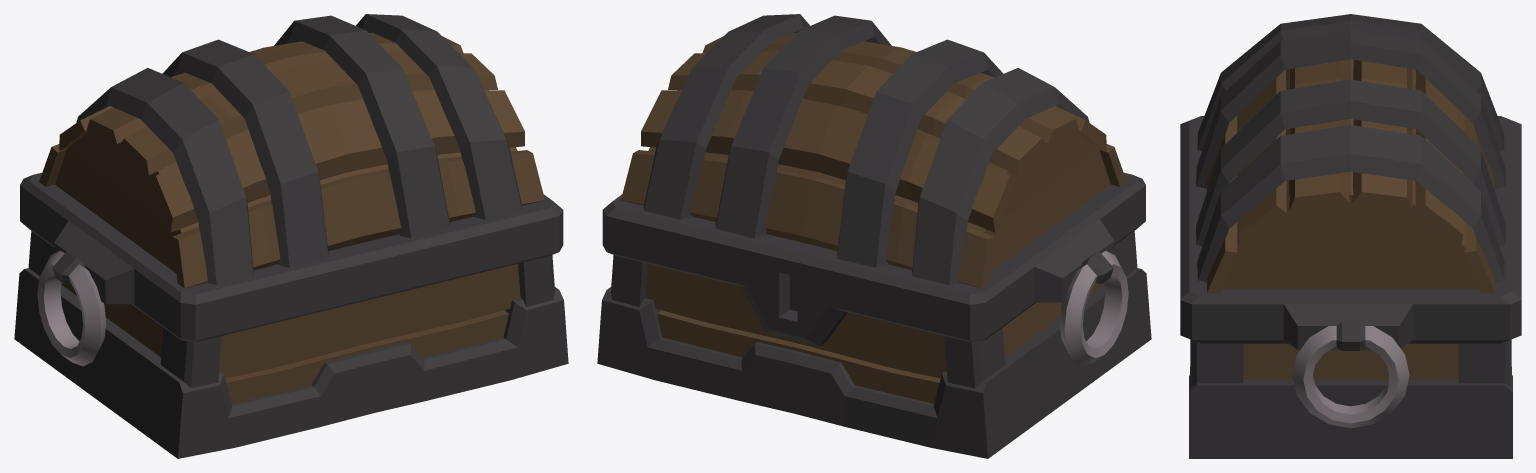
Rendered from chest.glb.
3 views of the same model, side by side, from view 1: azimuth 30°, elevation 25°; view 2: azimuth 150°, elevation 25°; view 3: azimuth 270°, elevation 25° (orthographic).
Parts seen in each view (by area): view 1: Prop_Chest_Closed; view 2: Prop_Chest_Closed; view 3: Prop_Chest_Closed.
Part boxes in pixels (x1,y1,x2,y2): Prop_Chest_Closed: (14,14,568,458); Prop_Chest_Closed: (597,14,1151,458); Prop_Chest_Closed: (1180,14,1521,458).
Bounding box in the file's own units: 1.3 × 0.8213 × 0.827.
1 material, 1 textured.
